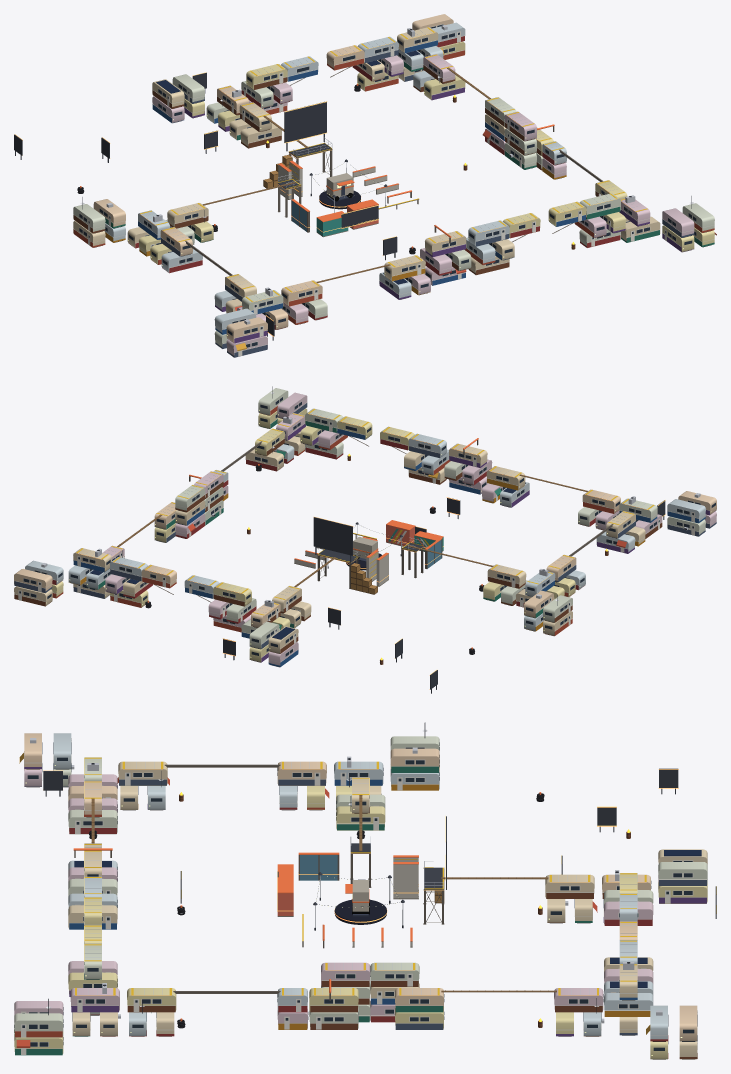
3 renders of one model, top to bottom at view 1: azimuth 30°, elevation 25°; view 2: azimuth 150°, elevation 25°; view 3: azimuth 270°, elevation 25°, orthographic. The views are drawn at different scales.
Parts seen in each view (by area): view 1: district_city_vertical.lod0; view 2: district_city_vertical.lod0; view 3: district_city_vertical.lod0.
Boxes of the visible parts, box(x1,y1,x2,y2) form: district_city_vertical.lod0: box(14, 14, 716, 357); district_city_vertical.lod0: box(14, 386, 716, 693); district_city_vertical.lod0: box(14, 722, 716, 1059).
Bounding box in the file's own units: 95.85 × 13 × 97.13.
